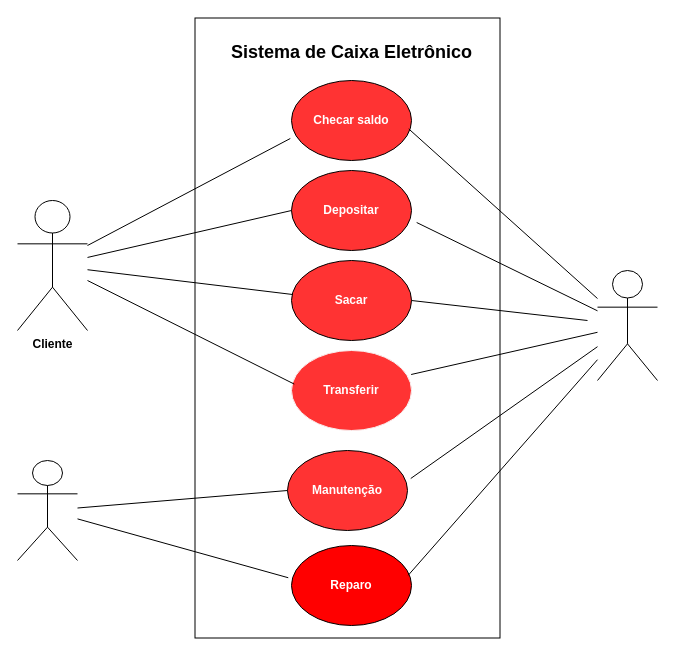
Image size: 675x655. Some labels were removed from this diagram. The shapes that lost their labels are listed below. From the top down, each one's centre as x and y in pixels, then its label:
At [627,325]: "Banco".
At [47,510]: "Técnico".
